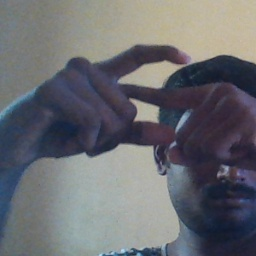E: (102, 42, 194, 152)
